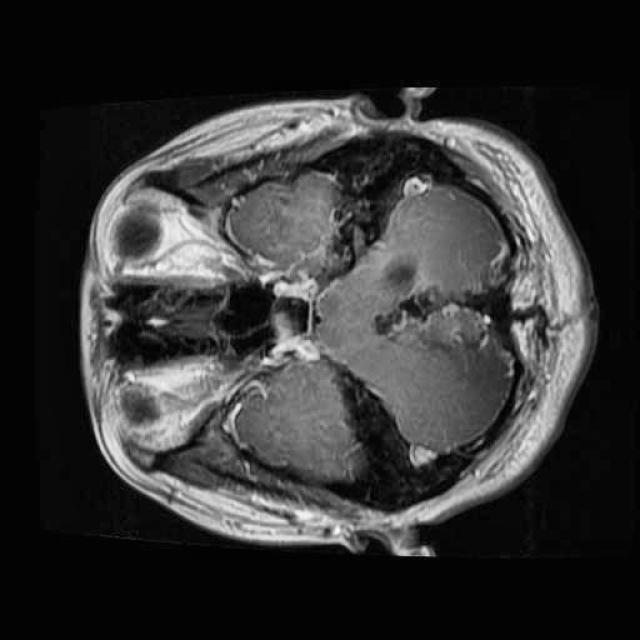Non-Tumor: (371, 239, 521, 373)
